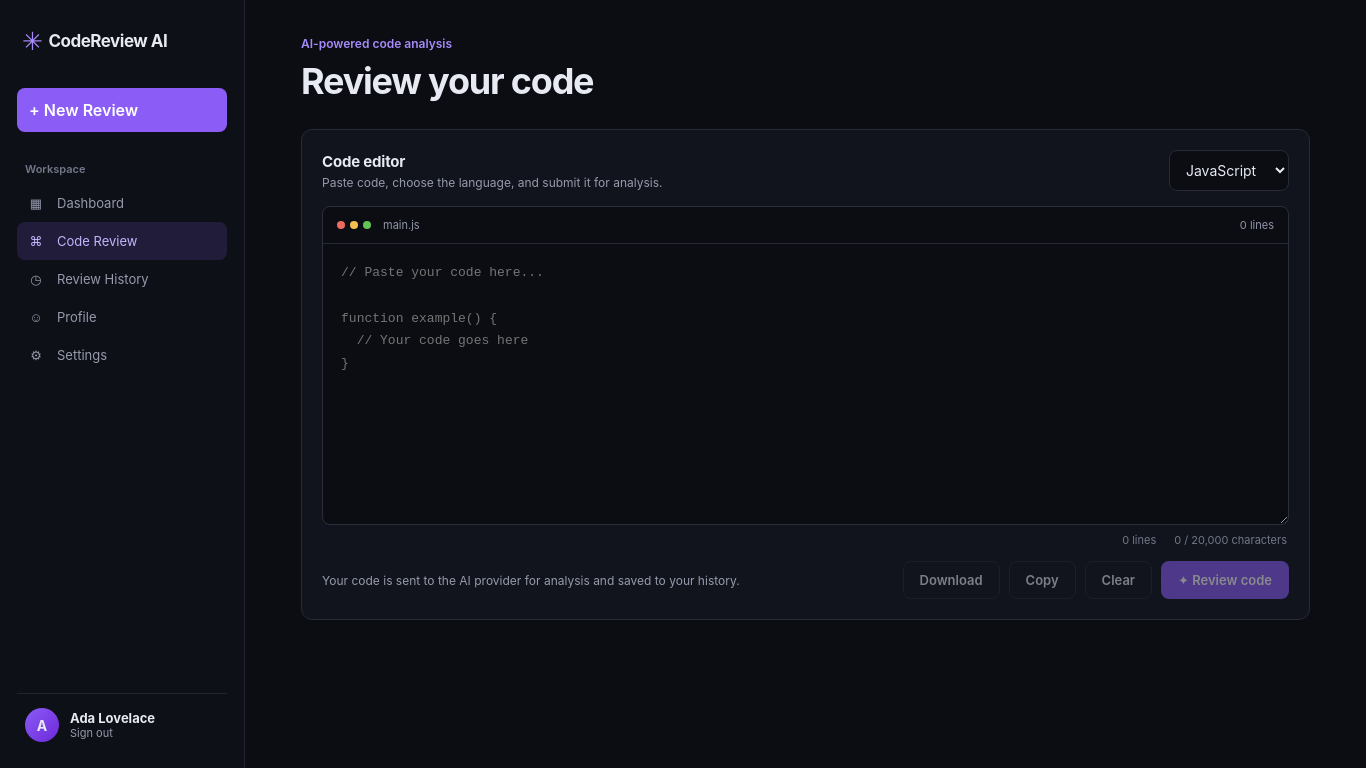
code review page › network failure gives a clear message
Click the text box named "code to review" at [805, 384], box [323,244,1288,524]
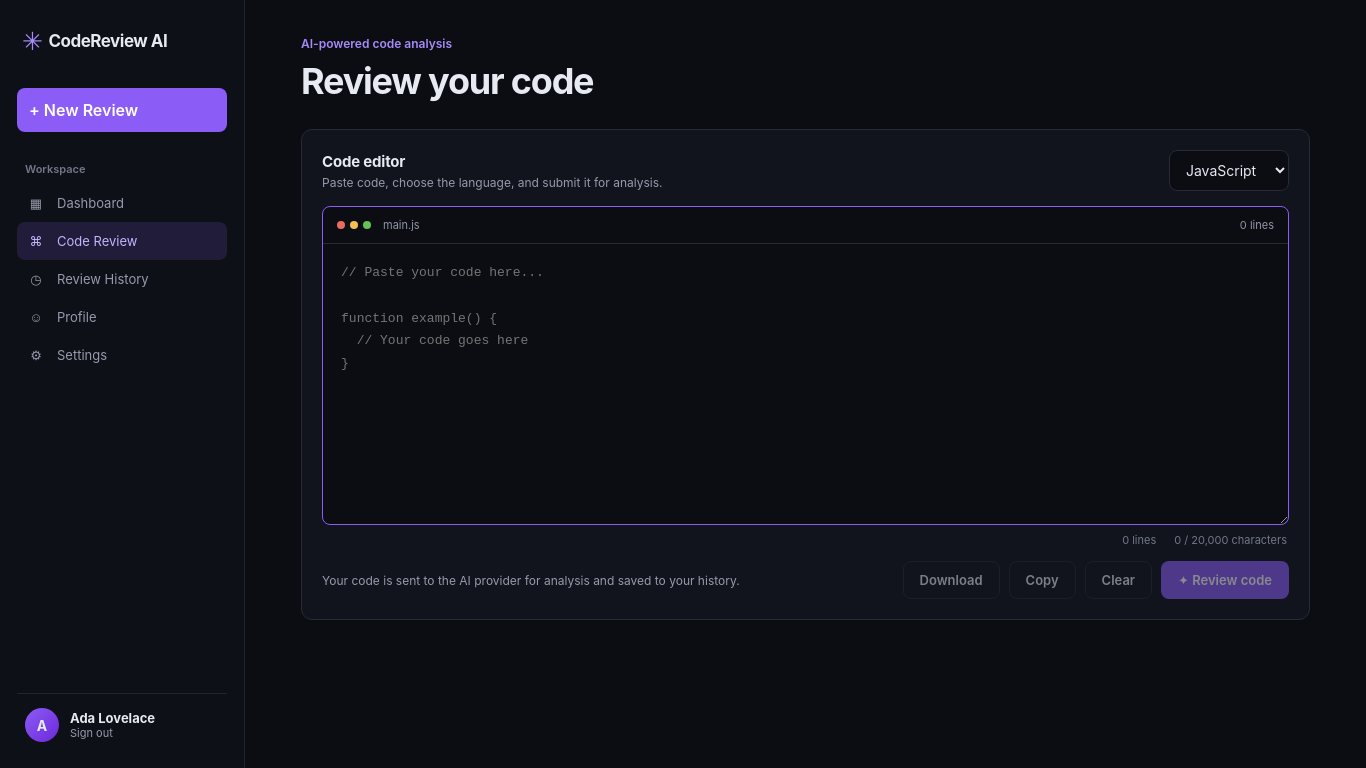
Type keys "function f() { return 1 }"
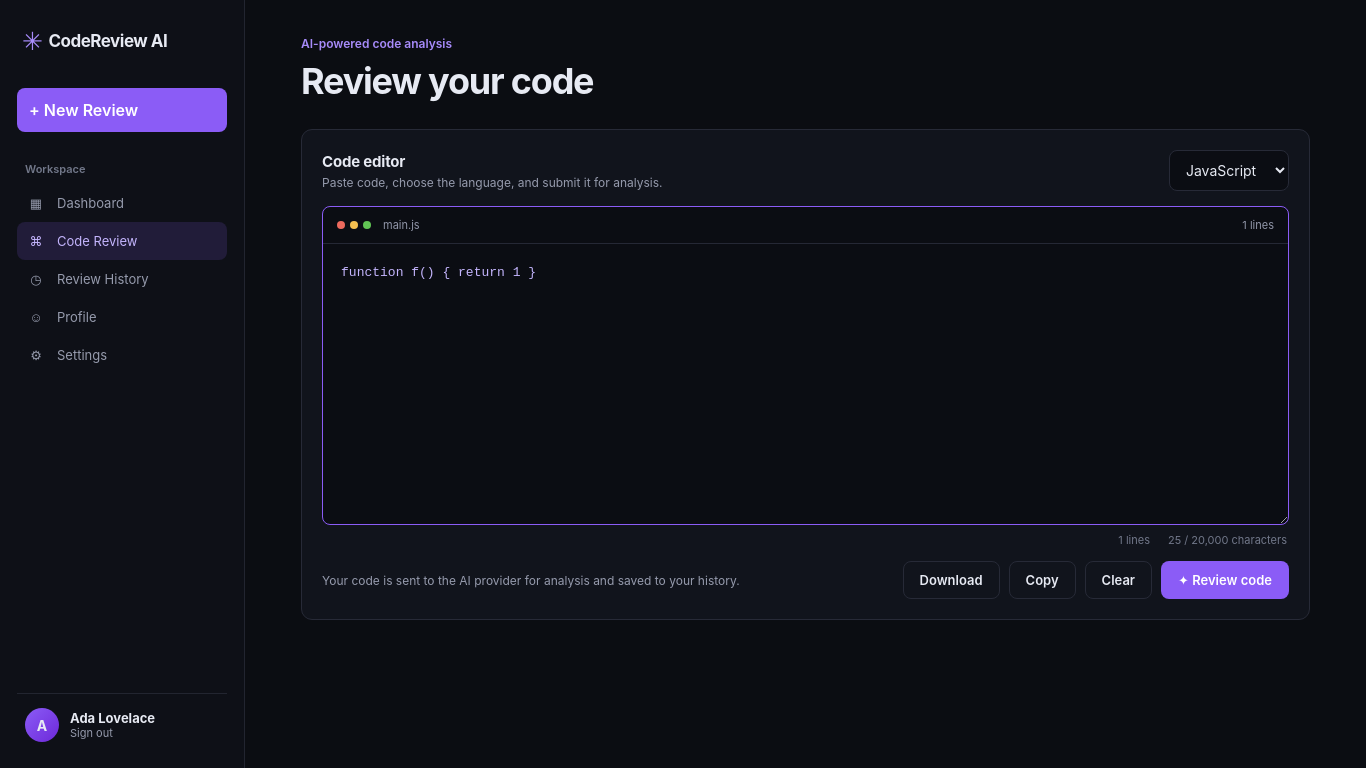
Click the button "✦ Review code" at [1225, 580], box [1161,561,1289,599]
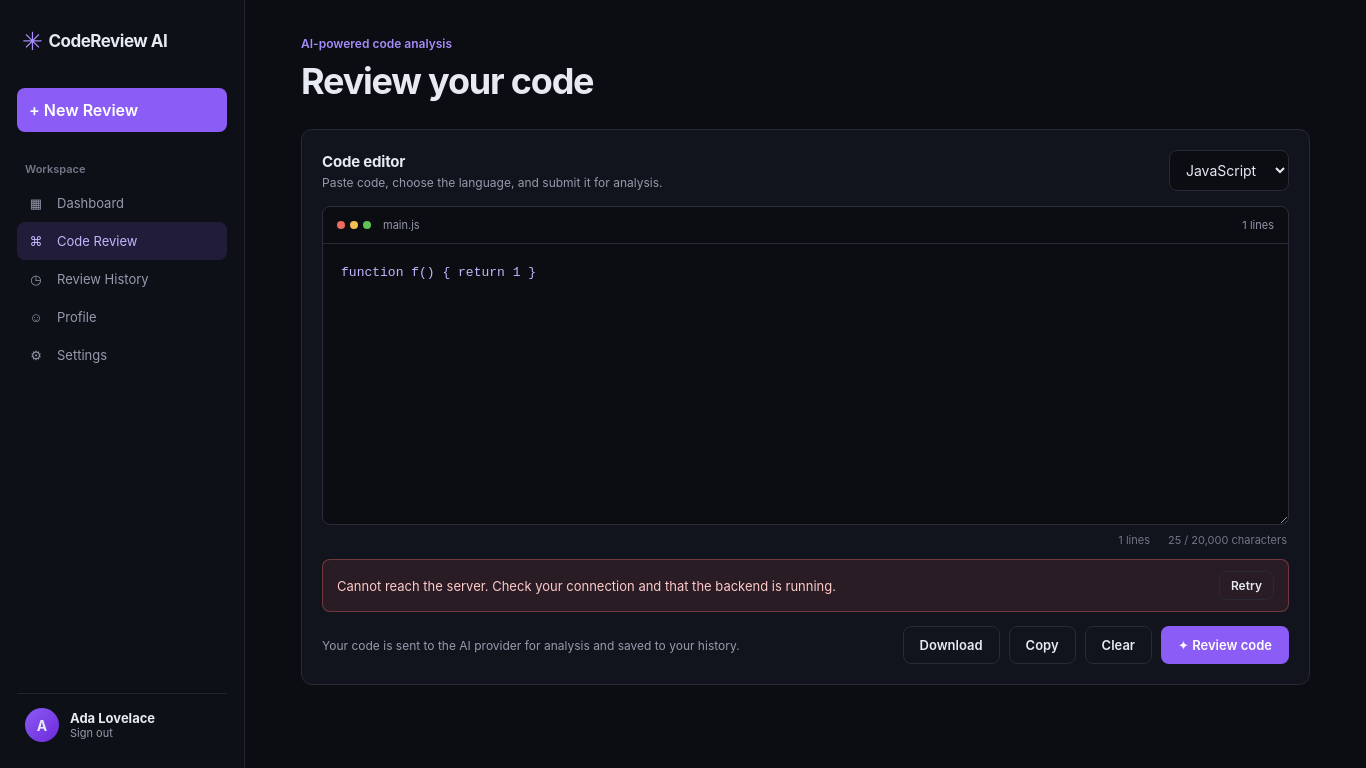
Result: the message shows "Cannot reach the server" at [337,578,836,594]
